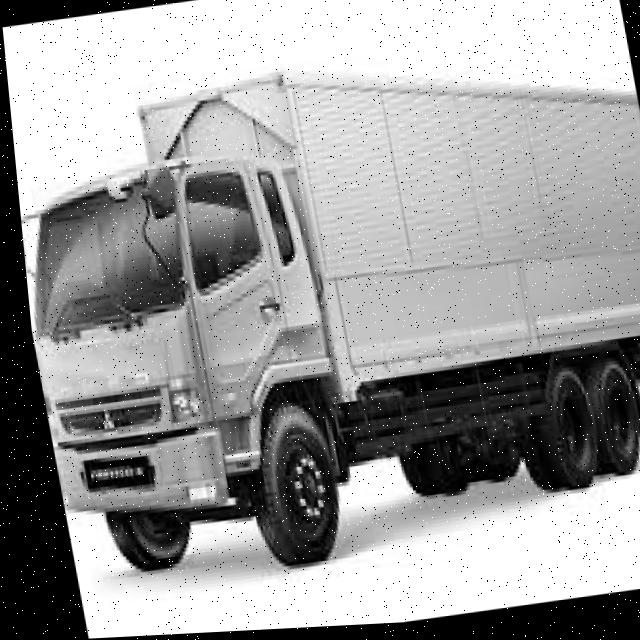truck: (11, 119, 395, 611)
